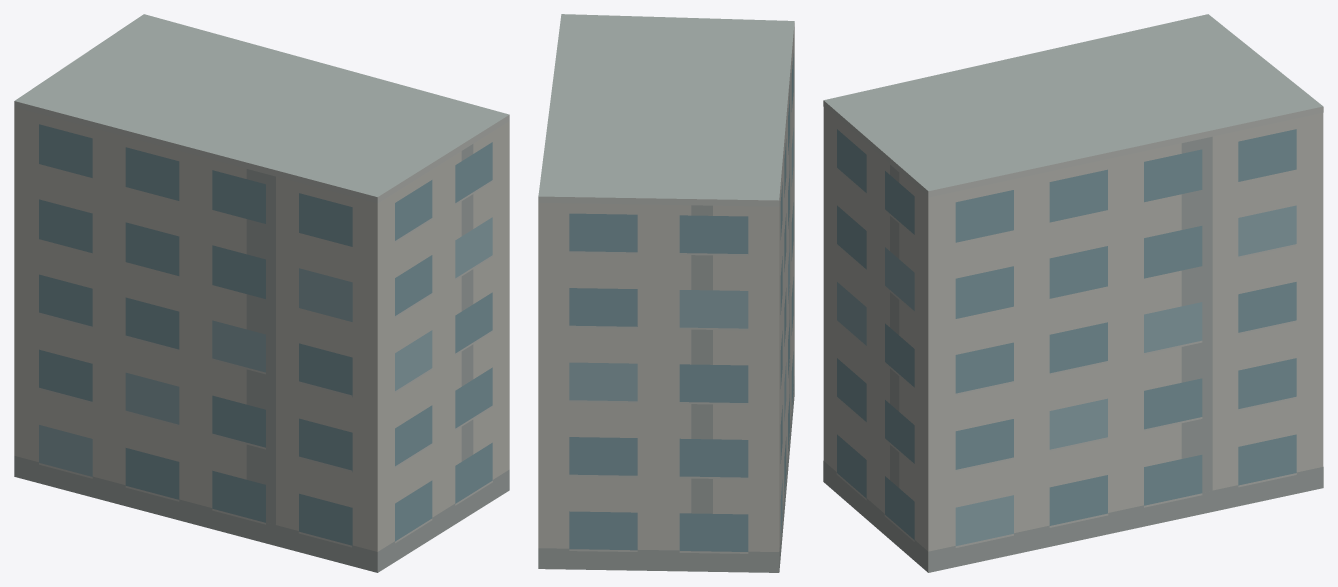
The model's file is survey-upis-33023534.glb.
3 views of the same model, side by side, from view 1: azimuth 30°, elevation 25°; view 2: azimuth 150°, elevation 25°; view 3: azimuth 270°, elevation 25° (orthographic). The views are drawn at different scales.
Parts seen in each view (by area): view 1: survey-upis-33023534.tmp; view 2: survey-upis-33023534.tmp; view 3: survey-upis-33023534.tmp.
Part boxes in pixels (bbox=[...]): survey-upis-33023534.tmp: bbox=[14, 14, 509, 572]; survey-upis-33023534.tmp: bbox=[538, 14, 794, 572]; survey-upis-33023534.tmp: bbox=[823, 14, 1323, 572].
Size of the model in its own units: 14.45 by 14.5 by 17.23.
